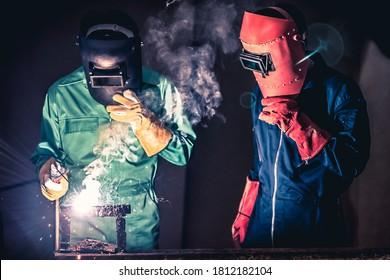gloves: (105, 88, 173, 158), (257, 97, 332, 160), (230, 176, 261, 244), (39, 156, 70, 202)
